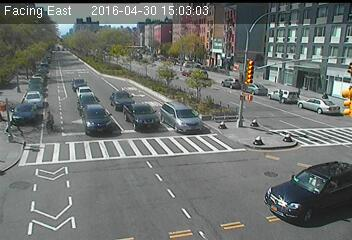neg: (36, 104, 60, 136), (214, 52, 231, 75), (220, 103, 233, 120), (78, 117, 90, 132), (63, 42, 73, 56), (254, 60, 262, 71), (168, 44, 176, 54), (135, 47, 142, 56), (152, 73, 158, 82), (239, 63, 245, 72), (111, 85, 117, 93), (95, 46, 101, 54), (209, 26, 215, 34), (139, 66, 144, 73), (171, 80, 176, 85)
pos: (294, 85, 304, 98), (276, 87, 286, 100), (321, 90, 330, 102)
